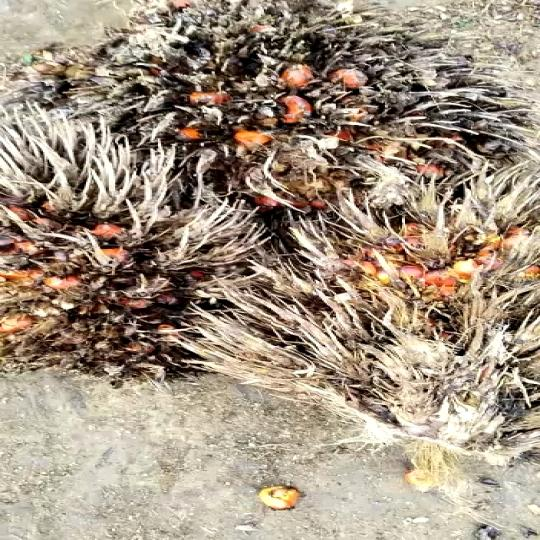terlalu masak: (181, 202, 540, 476), (69, 0, 539, 198), (0, 121, 222, 375)
